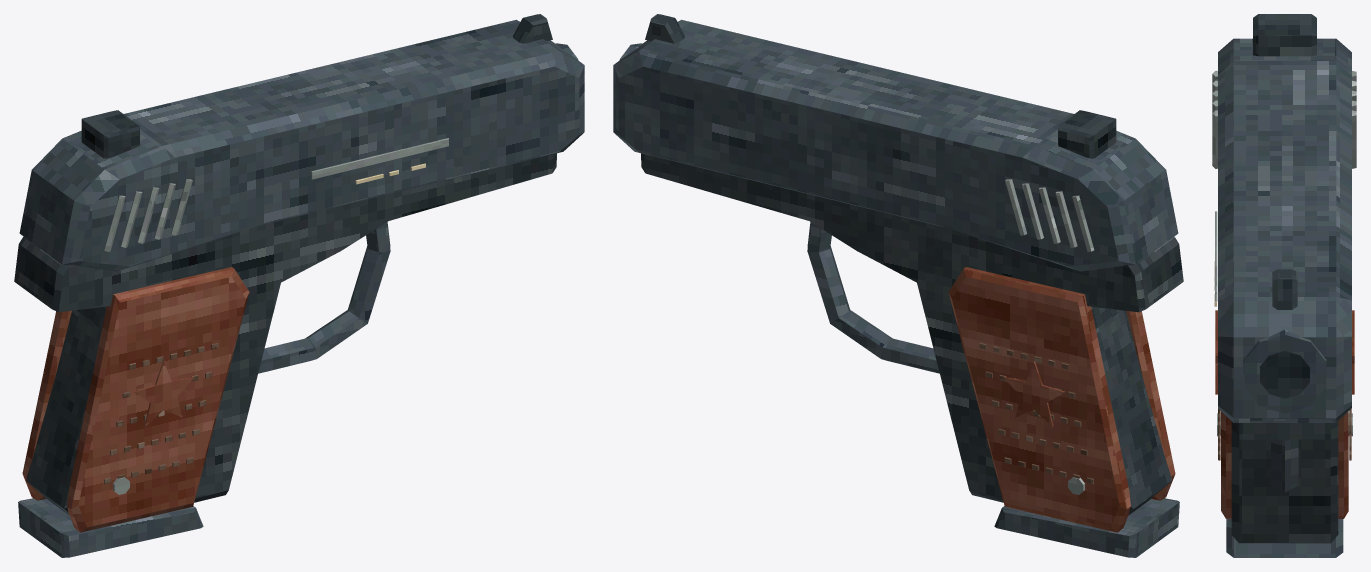
Rendered from 05_pistol_pl.glb.
The picture shows the model from 3 angles, left to right: view 1: azimuth 30°, elevation 25°; view 2: azimuth 150°, elevation 25°; view 3: azimuth 270°, elevation 25°; orthographic projection. The views are drawn at different scales.
Visible parts, largest first — view 1: 05_pistol_pl; view 2: 05_pistol_pl; view 3: 05_pistol_pl.
Boxes of the visible parts, x1,y1,x2,y2 form: 05_pistol_pl: (14,14,584,557); 05_pistol_pl: (613,14,1183,557); 05_pistol_pl: (1212,14,1356,557).
Bounding box in the file's own units: 0.1476 × 0.1071 × 0.0285.
1 material, 1 textured.
